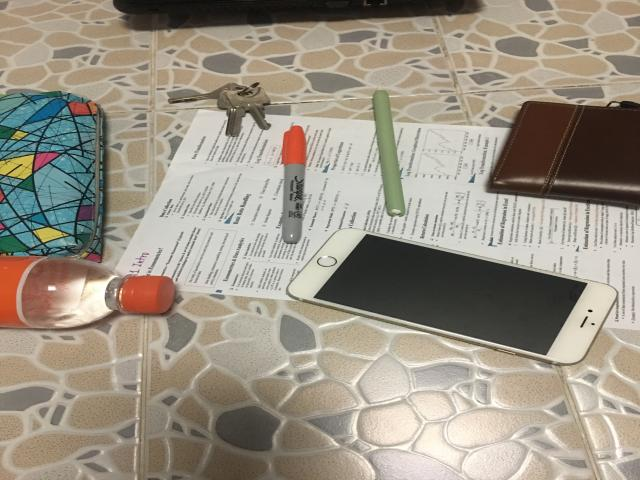Keys: (168, 82, 270, 137)
Mobile phone: (287, 228, 617, 365)
Pen: (282, 126, 307, 244)
Wallet: (488, 101, 640, 205)
bottle: (0, 256, 173, 328)
paper: (106, 109, 640, 331)
